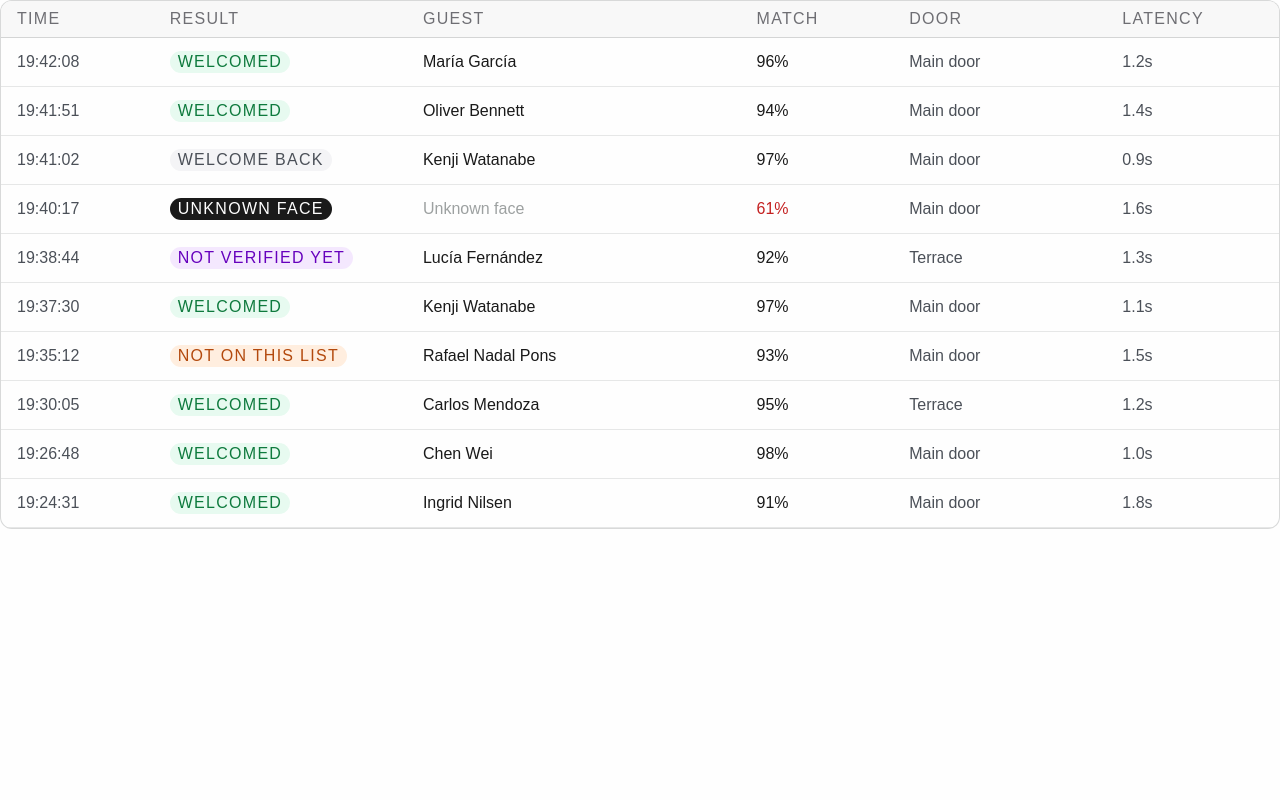
Test: check-in log drawers › a scan row opens the scan panel from the row itself: no request, no page navigation; close leaves in place
The width and height of the screenshot is (1280, 800).
Click the row "19:40:17 Unknown face Unknown face 61% Main door 1.6s" at [640, 210], box [1,185,1279,234]
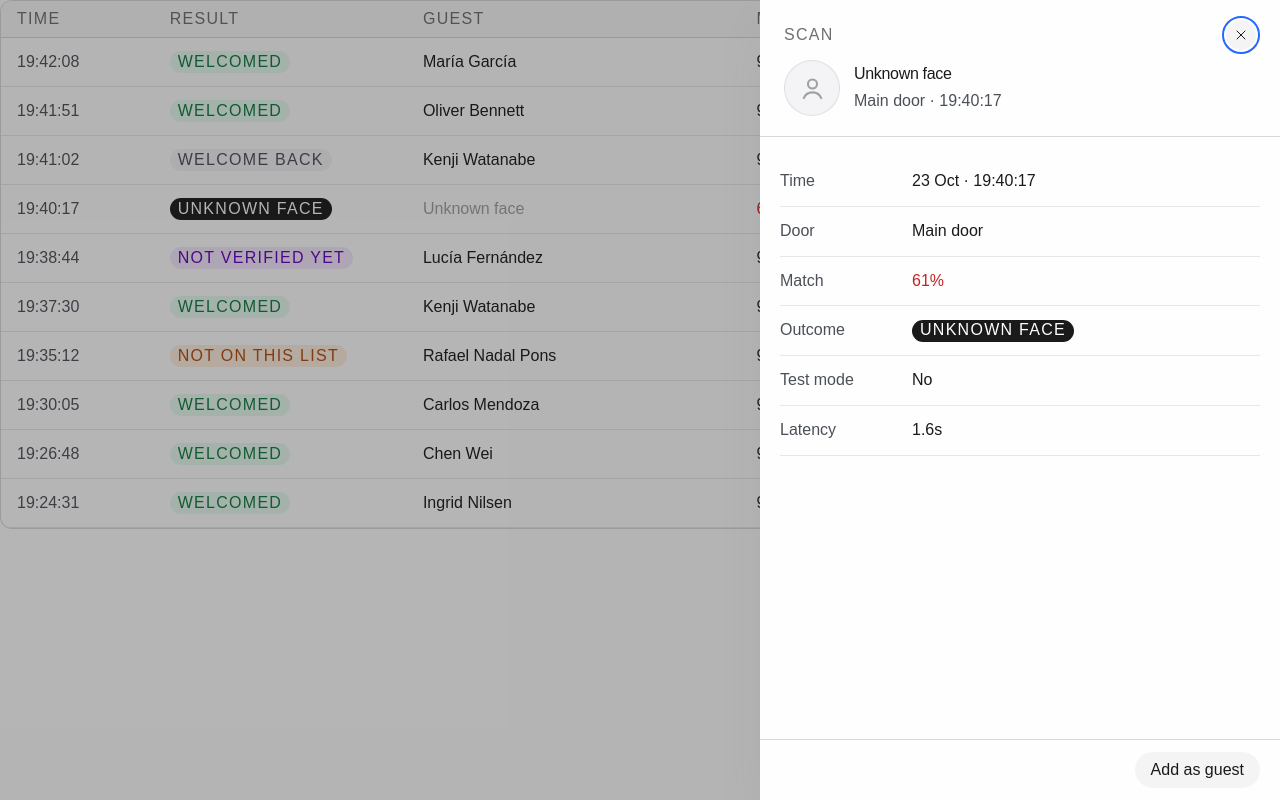
Expected: the dialog shows "Unknown face", [854,65,952,82]
Expected: the dialog shows "23 Oct · 19:40:17", [912,172,1036,189]
Expected: the dialog shows "Add as guest", [1135,752,1260,788]
Click the button named "Close" at [1241, 35], box [1226,20,1256,50]
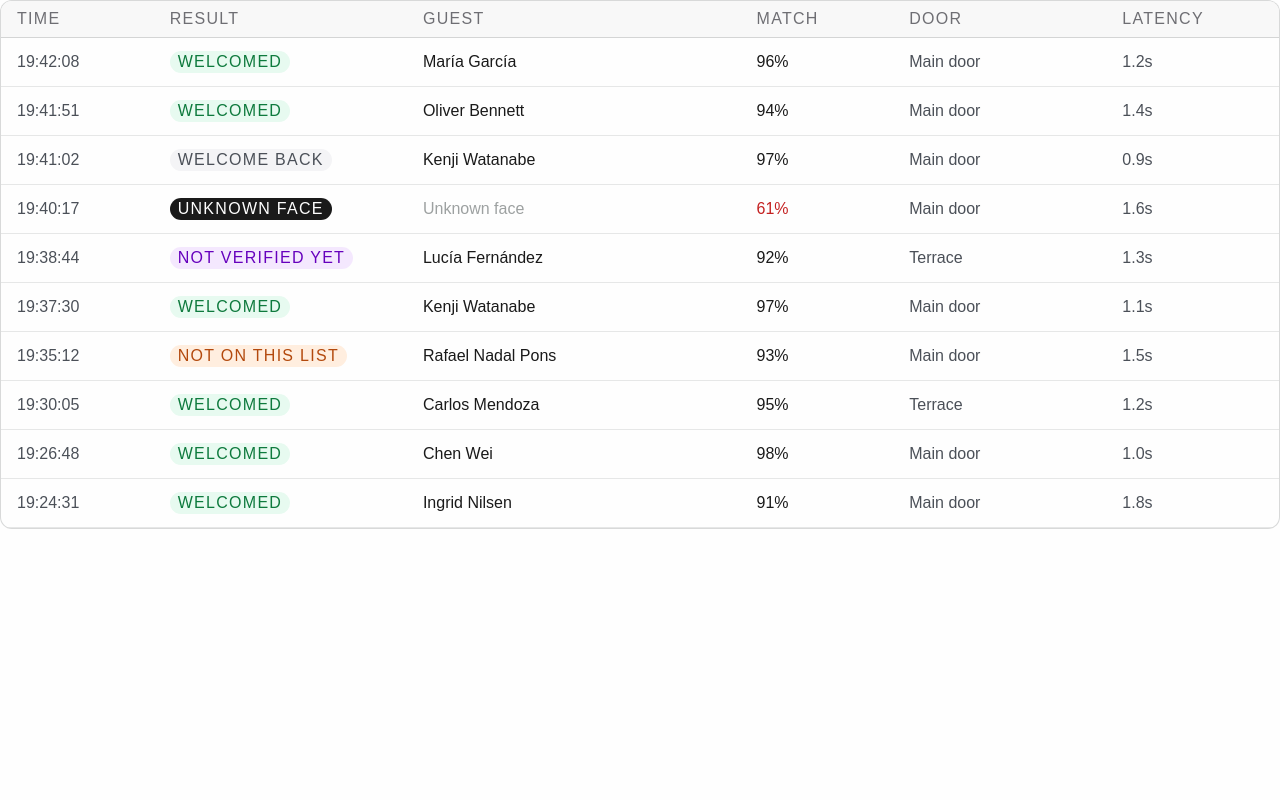
Expected: the dialog is gone
